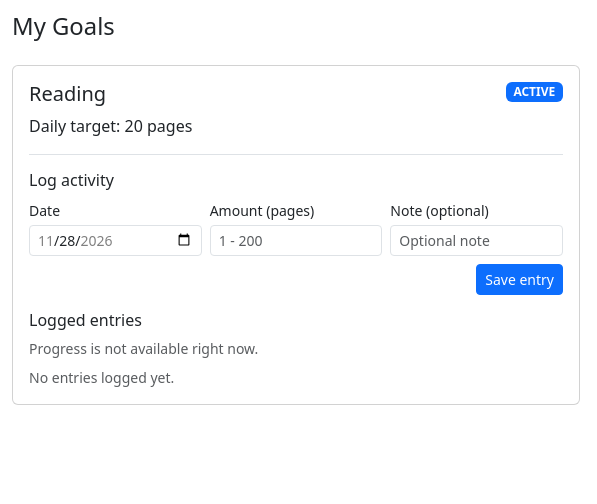
Test case: F-04 Daily activity logging UI › TEST-UI-07: displays server error when logging fails and keeps input values
The image size is (597, 504).
expect the heading "Reading" is shown: met, box 29,82 -> 106,106
Type "999" into the number field labelled "Amount (pages)".
click(296, 240); type("999")  # box 210,225 -> 382,256
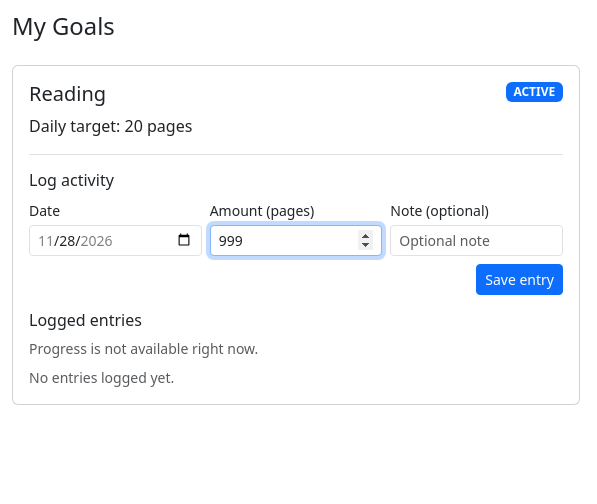
Click the button "Save entry".
click(520, 279)  # box 476,264 -> 563,295
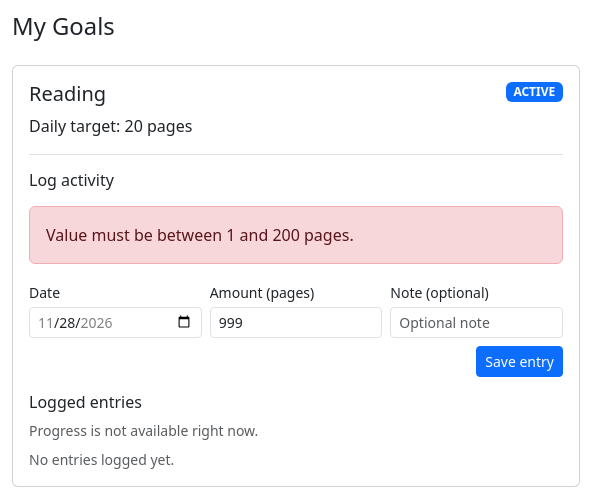
expect the message reads "Value must be between 1 and 200 pages.": met, box 46,224 -> 354,246
